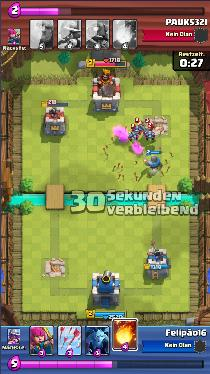ally_knight: (143, 156, 164, 170), (141, 120, 154, 132)
enemy_arrow: (103, 131, 172, 181)
enemy_minion: (144, 131, 156, 141), (127, 131, 138, 141), (134, 124, 142, 133)
